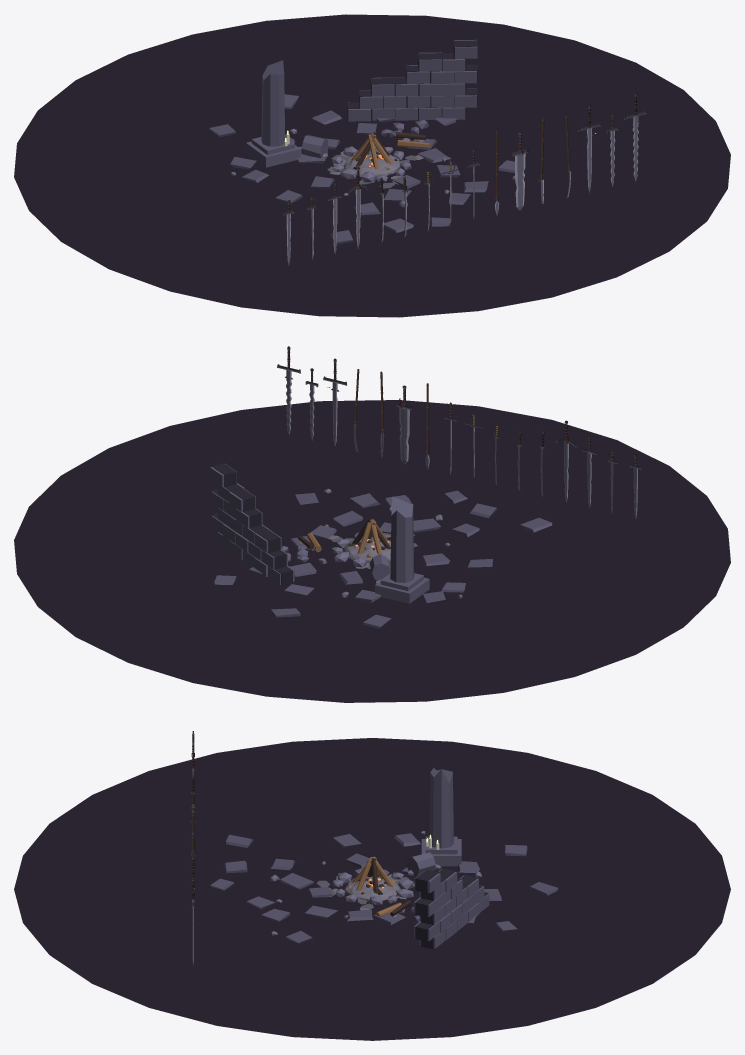
File: bonfire.glb
The picture shows the model from 3 angles, top to bottom: view 1: azimuth 30°, elevation 25°; view 2: azimuth 150°, elevation 25°; view 3: azimuth 270°, elevation 25°; orthographic projection.
Visible parts, largest first — view 1: Static_Ground, Static_Pillar, Static_Flagstone, Static_Mortar, Static_Stone, Static_Ash, Static_Wood, Weapon_greatsword; view 2: Static_Ground, Static_Pillar, Static_Flagstone, Static_Mortar, Static_Stone, Weapon_greatsword, Static_Ash, Static_Wood; view 3: Static_Ground, Static_Pillar, Static_Flagstone, Static_Mortar, Static_Stone, Static_Ash, Static_Wood.
Part boxes in pixels (x1,y1,x2,y2): Static_Ground: (14, 14, 730, 317); Static_Pillar: (246, 39, 477, 167); Static_Flagstone: (209, 94, 514, 244); Static_Mortar: (347, 40, 477, 120); Static_Stone: (231, 128, 515, 207); Static_Ash: (329, 149, 423, 179); Static_Wood: (351, 133, 430, 170); Weapon_greatsword: (512, 131, 528, 210); Static_Ground: (14, 400, 730, 702); Static_Pillar: (210, 464, 429, 603); Static_Flagstone: (214, 490, 552, 628); Static_Mortar: (212, 463, 292, 585); Static_Stone: (298, 488, 462, 598); Weapon_greatsword: (396, 385, 412, 464); Static_Ash: (328, 535, 390, 568); Static_Wood: (307, 519, 387, 557); Static_Ground: (14, 738, 730, 1040); Static_Pillar: (406, 768, 489, 948); Static_Flagstone: (210, 833, 558, 943); Static_Mortar: (415, 868, 488, 949); Static_Stone: (270, 830, 481, 935); Static_Ash: (333, 874, 414, 910); Static_Wood: (348, 856, 401, 916).
Size of the model in its own units: 14 by 2.11 by 14.
